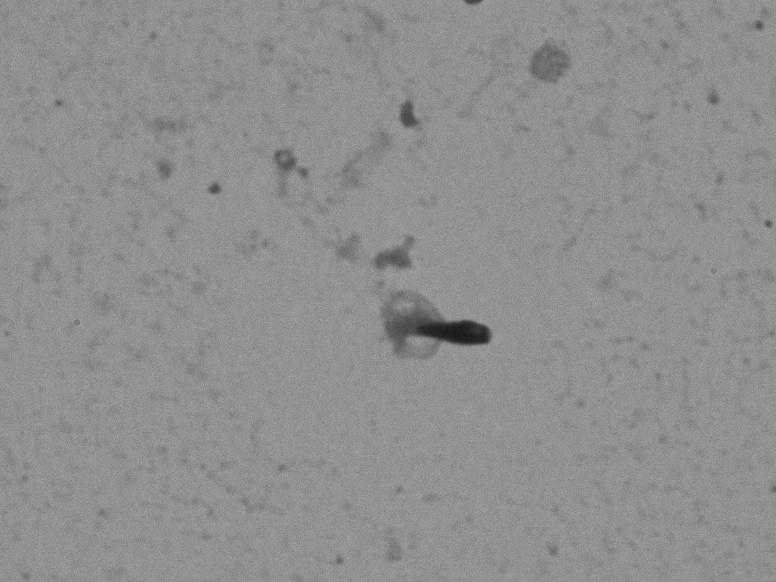Abnormal: (342, 273, 525, 405)
